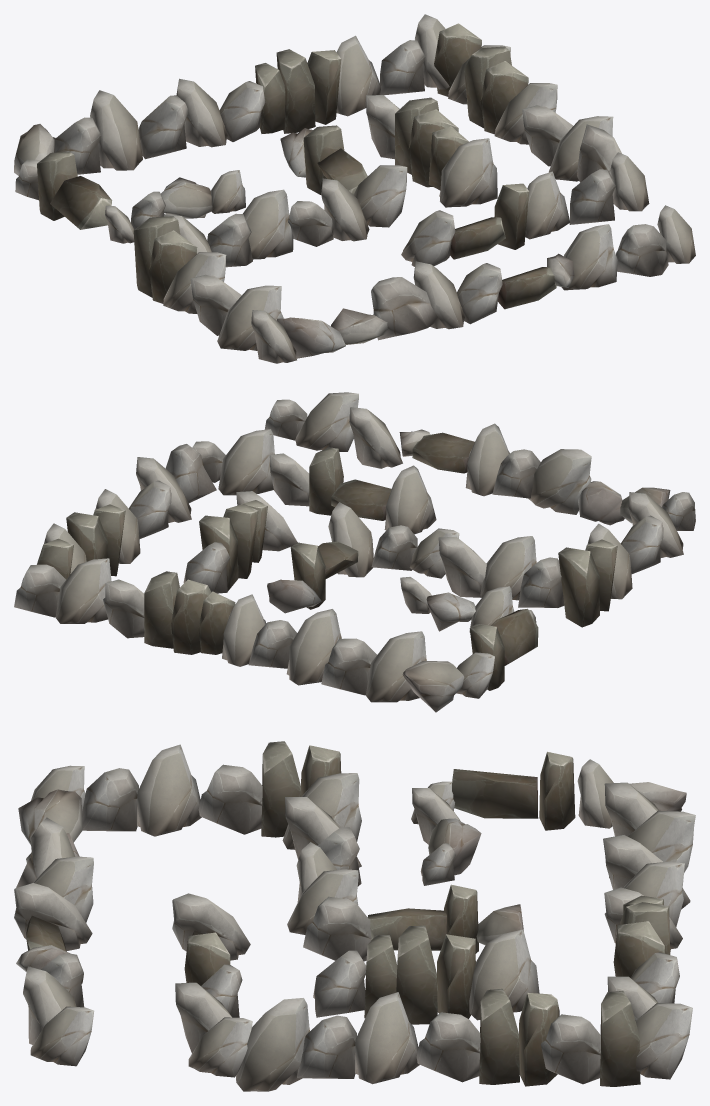
Rendered from wall.fbx.
3 views of the same model, one above another, from view 1: azimuth 30°, elevation 25°; view 2: azimuth 150°, elevation 25°; view 3: azimuth 270°, elevation 25° (orthographic). The views are drawn at different scales.
Visible parts, largest first — view 1: SM_Rocks_09.006, SM_Rocks_09.001, SM_Rocks_09.004, SM_Rocks_09.003, SM_Rocks_09.002, SM_Rocks_09.005, SM_Rocks_09.008, SM_Rocks_09.007, SM_Rocks_09.010, SM_Rocks_09.009; view 2: SM_Rocks_09.006, SM_Rocks_09.001, SM_Rocks_09.004, SM_Rocks_09.003, SM_Rocks_09.008, SM_Rocks_09.002, SM_Rocks_09.005, SM_Rocks_09.010, SM_Rocks_09.007, SM_Rocks_09.009; view 3: SM_Rocks_09.004, SM_Rocks_09.001, SM_Rocks_09.006, SM_Rocks_09.002, SM_Rocks_09.005, SM_Rocks_09.003, SM_Rocks_09.010, SM_Rocks_09.008, SM_Rocks_09.007, SM_Rocks_09.009.
Part boxes in pixels (x1,y1,x2,y2): SM_Rocks_09.006: (54,35,425,174); SM_Rocks_09.001: (251,205,695,363); SM_Rocks_09.004: (415,14,621,182); SM_Rocks_09.003: (401,152,649,266); SM_Rocks_09.002: (133,216,283,350); SM_Rocks_09.005: (366,95,497,207); SM_Rocks_09.008: (163,178,369,267); SM_Rocks_09.007: (280,125,407,227); SM_Rocks_09.010: (14,124,112,229); SM_Rocks_09.009: (105,170,245,243); SM_Rocks_09.006: (55,558,426,702); SM_Rocks_09.001: (264,392,695,530); SM_Rocks_09.004: (14,444,216,617); SM_Rocks_09.003: (192,429,436,534); SM_Rocks_09.008: (371,525,564,607); SM_Rocks_09.002: (558,492,683,627); SM_Rocks_09.005: (183,491,297,593); SM_Rocks_09.010: (402,608,538,712); SM_Rocks_09.007: (267,502,373,613); SM_Rocks_09.009: (400,577,536,632); SM_Rocks_09.004: (236,988,692,1091); SM_Rocks_09.001: (14,765,94,1066); SM_Rocks_09.006: (603,782,695,1020); SM_Rocks_09.002: (82,741,341,837); SM_Rocks_09.005: (313,925,539,1024); SM_Rocks_09.003: (172,893,252,1077); SM_Rocks_09.010: (452,751,686,830); SM_Rocks_09.008: (282,773,361,934); SM_Rocks_09.007: (303,884,523,961); SM_Rocks_09.009: (411,781,481,885).
Bounding box in the file's own units: 3404 × 465 × 3459.
Materials: 1 (1 with a texture image).
